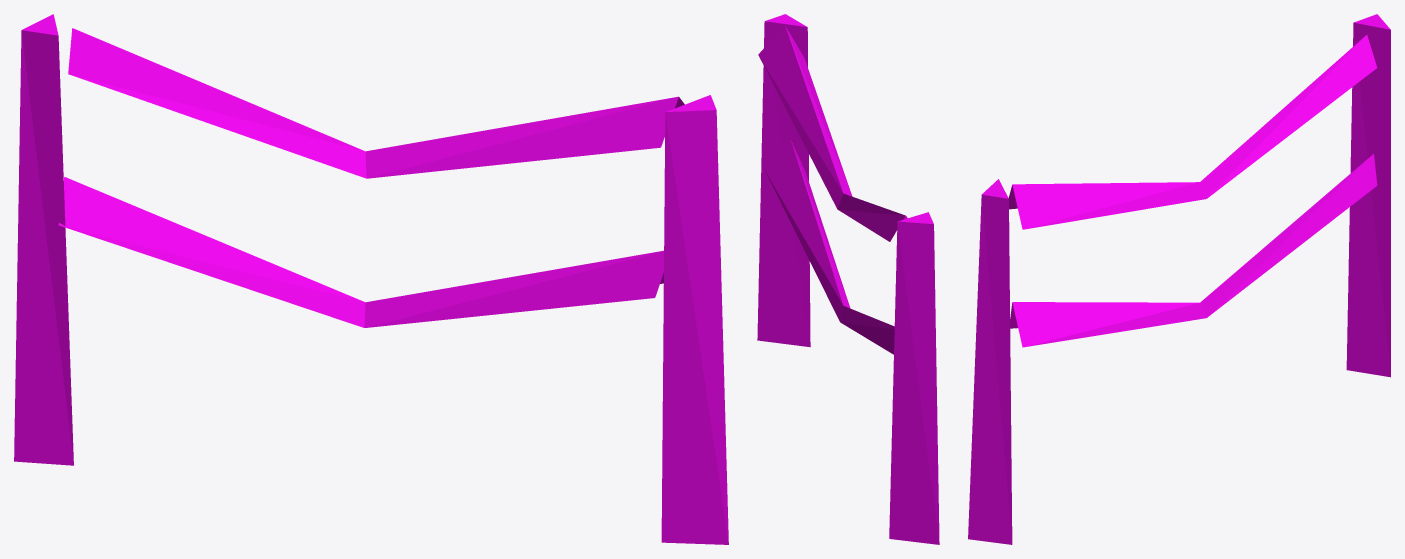
Rendered from gnomefence2.obj.
3 views of the same model, side by side, from view 1: azimuth 30°, elevation 25°; view 2: azimuth 150°, elevation 25°; view 3: azimuth 270°, elevation 25° (orthographic). The views are drawn at different scales.
Visible parts, largest first — view 1: gnomefence2_back; view 2: gnomefence2_back; view 3: gnomefence2_back.
Part boxes in pixels (box(x1,y1,x2,y2)): gnomefence2_back: box(14, 14, 728, 544); gnomefence2_back: box(757, 14, 939, 544); gnomefence2_back: box(968, 14, 1390, 544).
Size of the model in its own units: 1.28 by 1.13 by 1.24.
